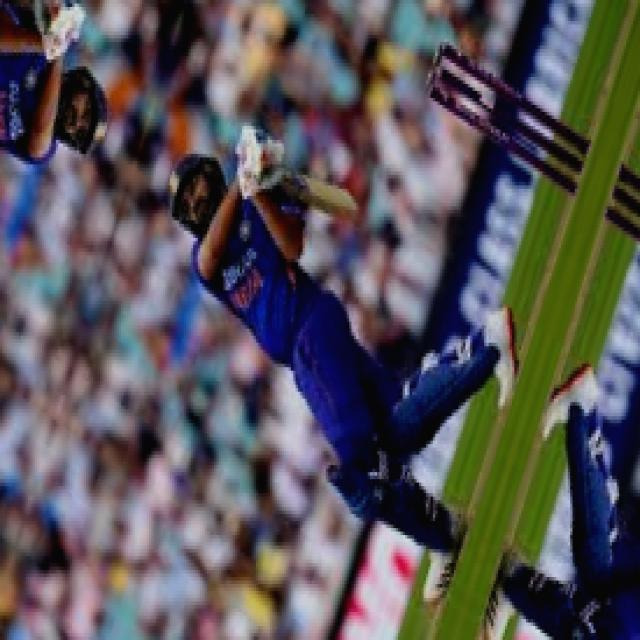toe: (337, 185, 356, 219)
